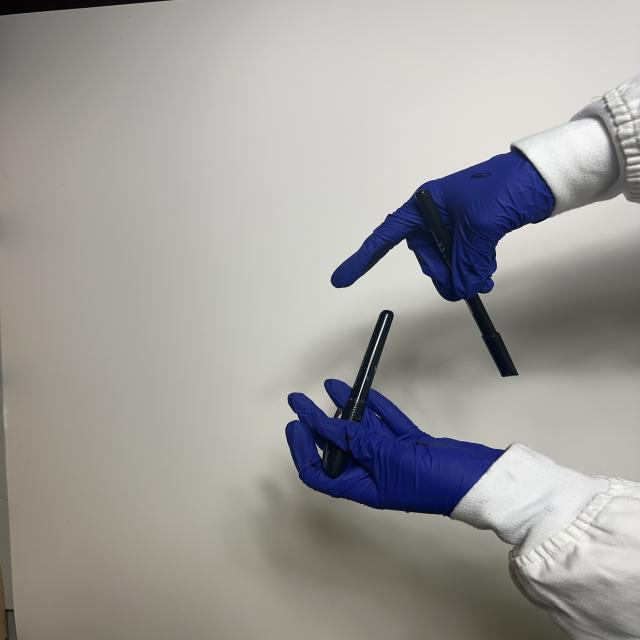gloves_contaminated: (332, 151, 555, 301), (285, 378, 504, 516)
